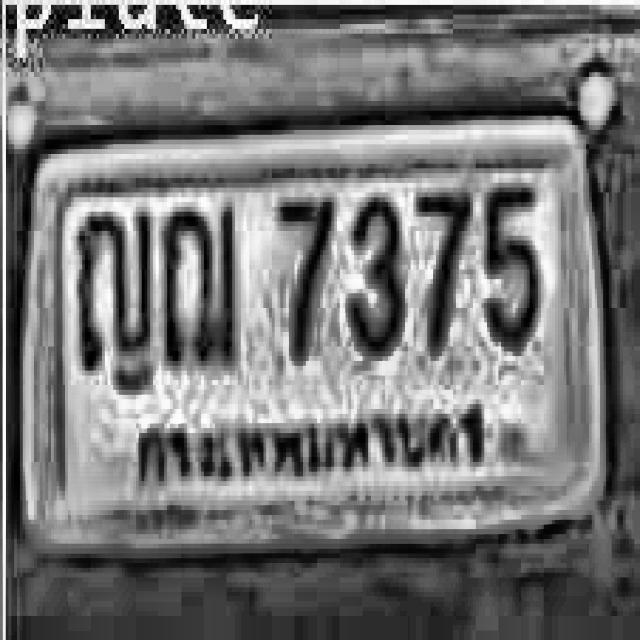license-plate: (16, 102, 620, 582)
